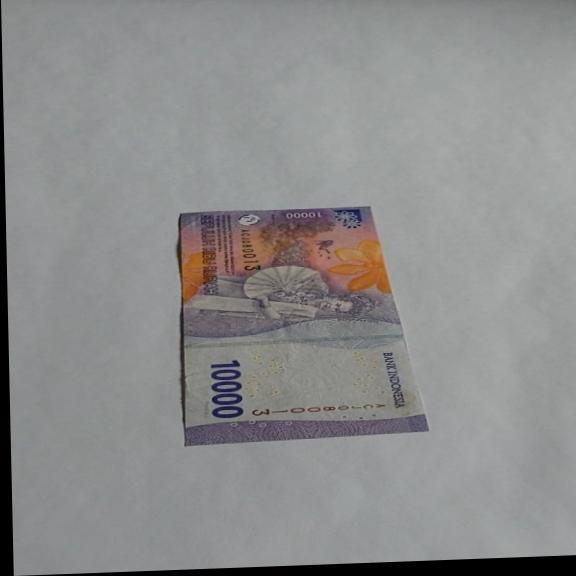Kertas: (175, 202, 430, 446), (207, 358, 245, 420)
